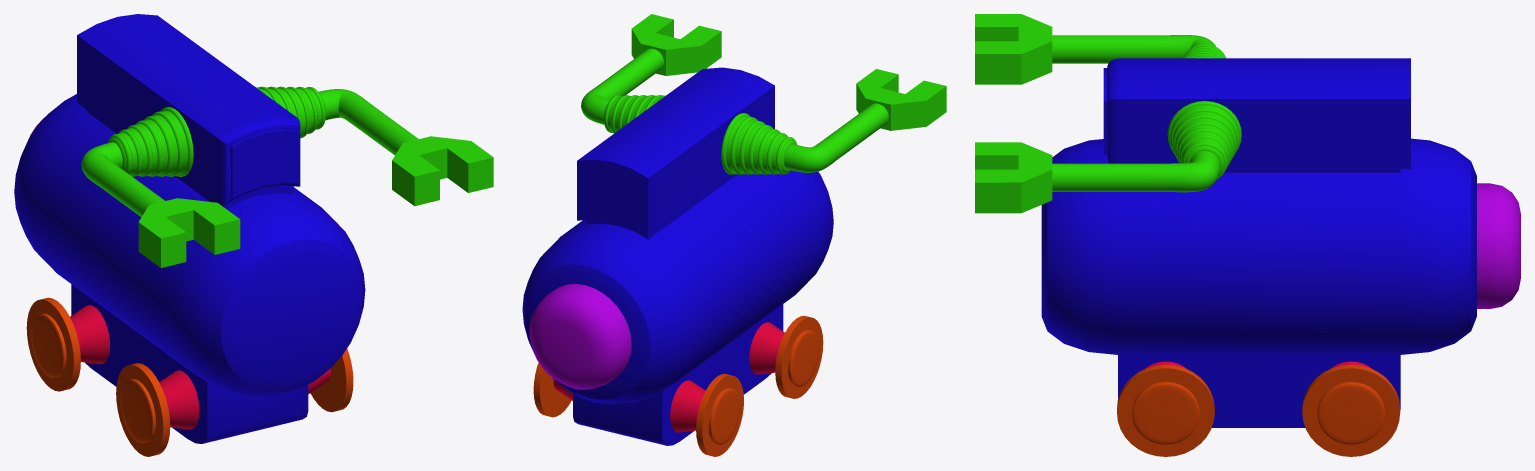
File: Resource‑gathering robot.fbx
3 renders of one model, left to right at view 1: azimuth 30°, elevation 25°; view 2: azimuth 150°, elevation 25°; view 3: azimuth 270°, elevation 25°, orthographic. The views are drawn at different scales.
Visible parts, largest first — view 1: Cylinder; view 2: Cylinder; view 3: Cylinder.
Part boxes in pixels (x1,y1,x2,y2): Cylinder: (14, 14, 493, 456); Cylinder: (522, 14, 946, 456); Cylinder: (975, 14, 1520, 456).
Size of the model in its own units: 366 by 344 by 502.
